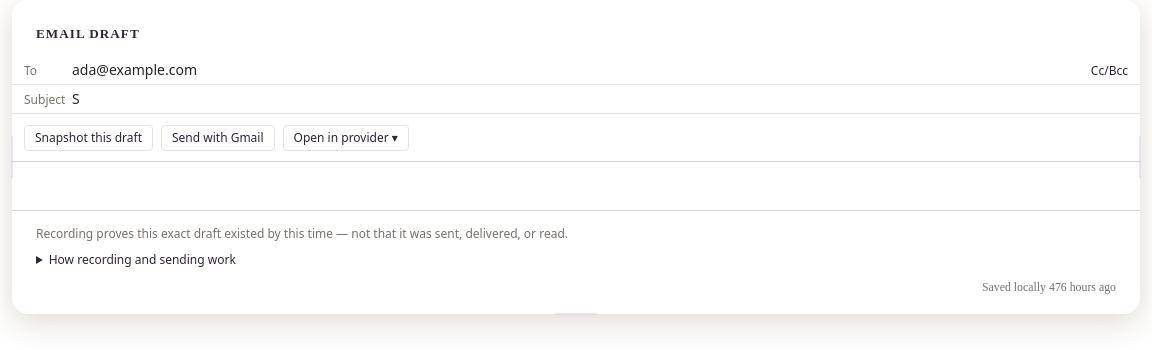
EmailComposePanel Gmail integration › does not send when the provenance record cannot be created
Click the button "Send with Gmail".
click(218, 138)  # box left=161, top=125, right=275, bottom=151
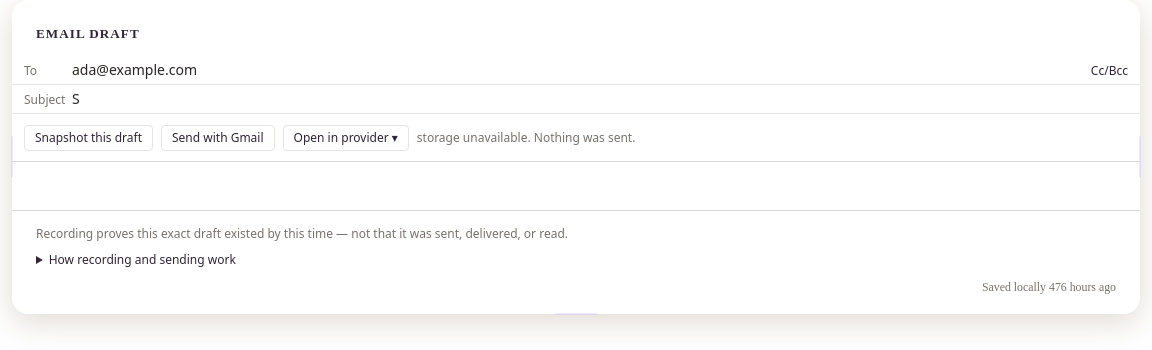
Expected: the text "storage unavailable. Nothing was sent." is shown, left=417, top=130, right=635, bottom=146
